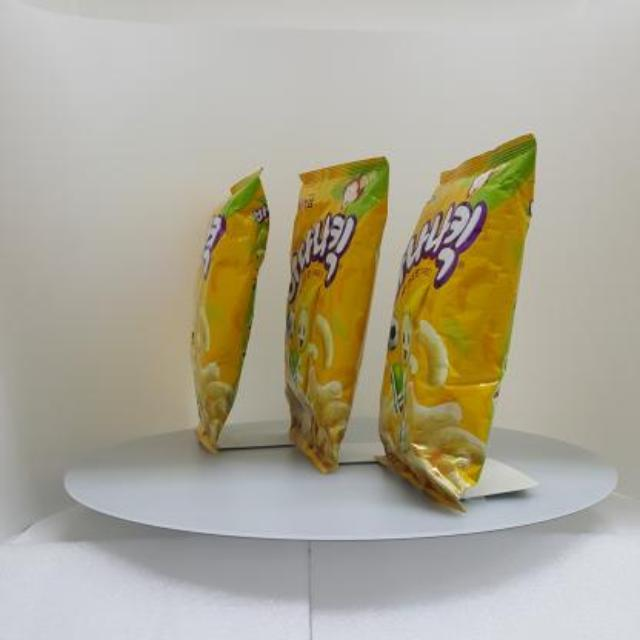snack_bag: (178, 124, 552, 530)
